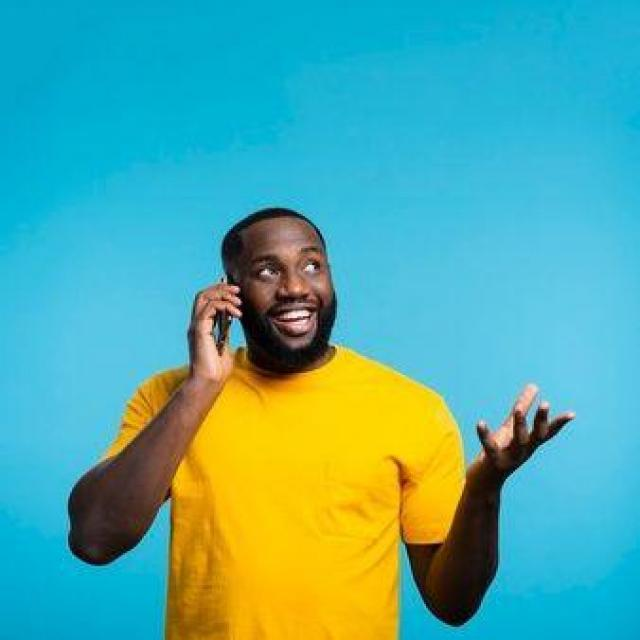person: (40, 188, 549, 638)
